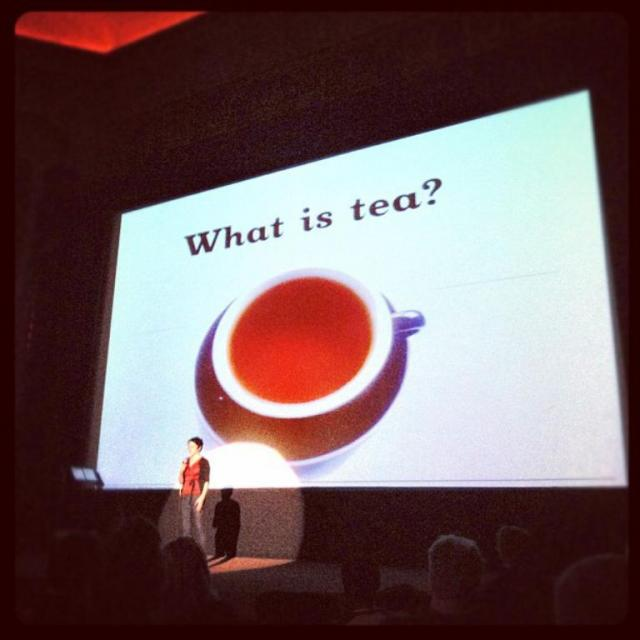Tea: (230, 279, 369, 402)
